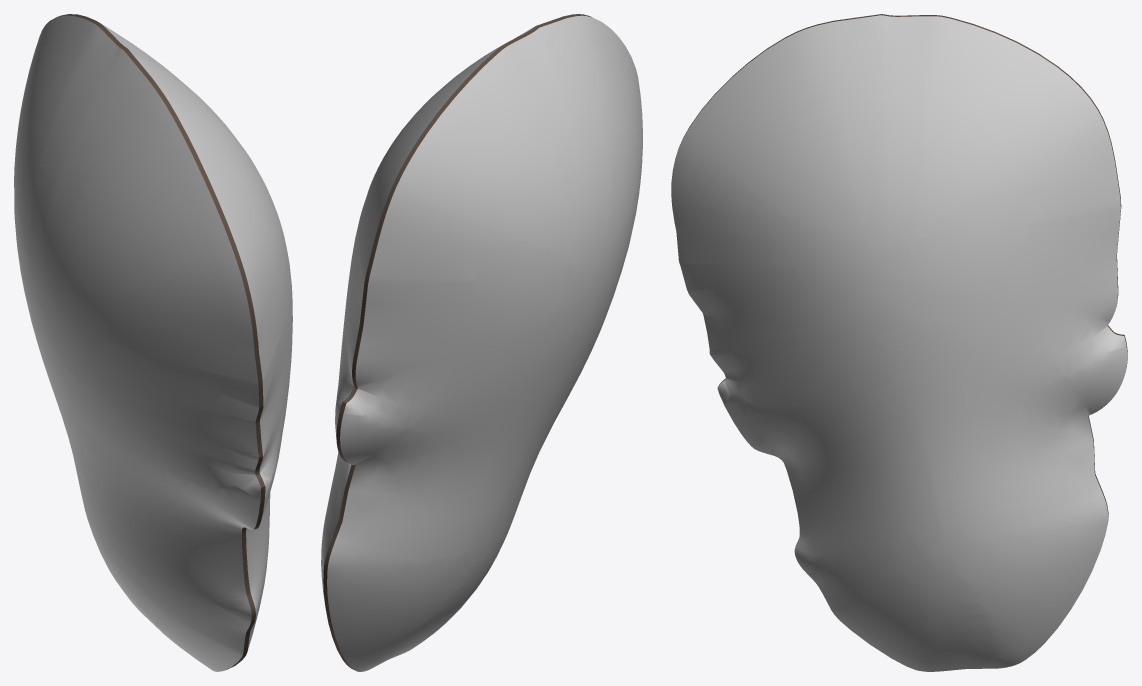
File: skull_PNG1.obj
The picture shows the model from 3 angles, left to right: view 1: azimuth 30°, elevation 25°; view 2: azimuth 150°, elevation 25°; view 3: azimuth 270°, elevation 25°; orthographic projection. The views are drawn at different scales.
Visible parts, largest first — view 1: Layer 1; view 2: Layer 1; view 3: Layer 1.
Boxes of the visible parts, bbox=[...] form: Layer 1: bbox=[14, 14, 292, 671]; Layer 1: bbox=[321, 14, 642, 671]; Layer 1: bbox=[671, 14, 1127, 671].
Size of the model in its own units: 283 by 772 by 524.
